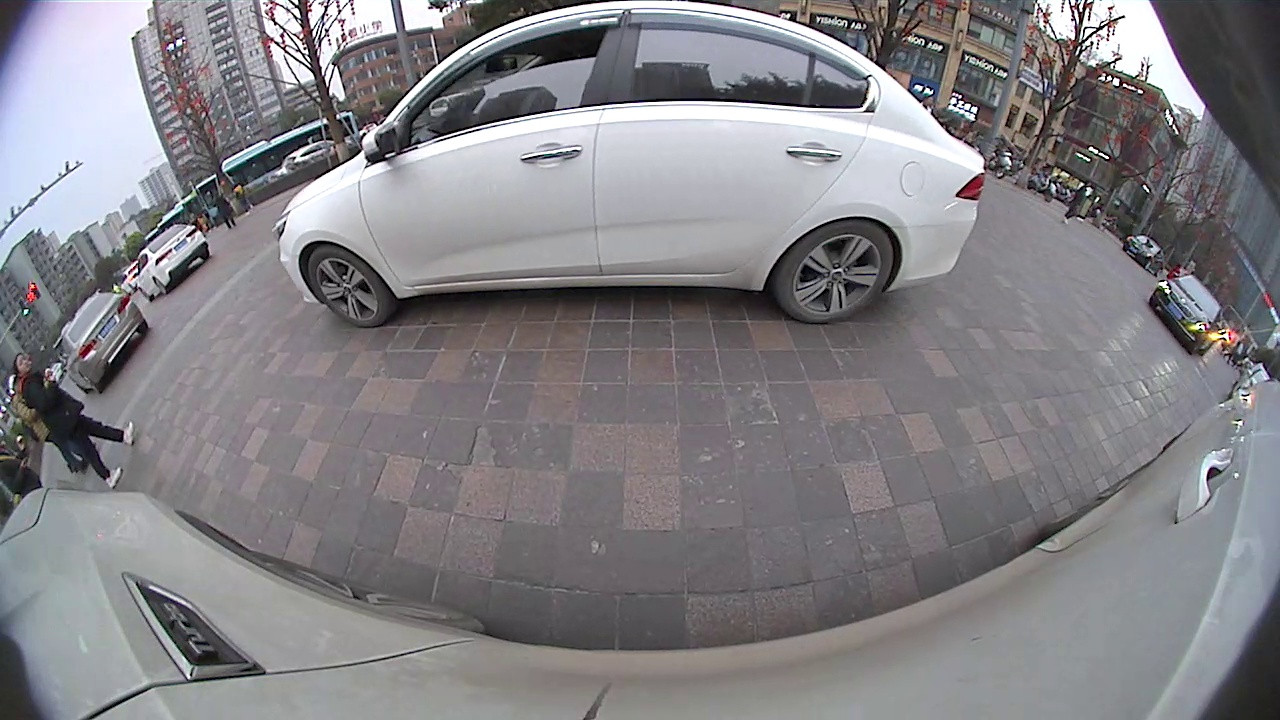bus: (178, 142, 296, 211)
car: (276, 1, 988, 330), (56, 288, 151, 396), (1147, 273, 1228, 357), (134, 219, 212, 303)
front: (304, 241, 393, 331)
person: (11, 351, 51, 486)
rear: (771, 217, 899, 327)
